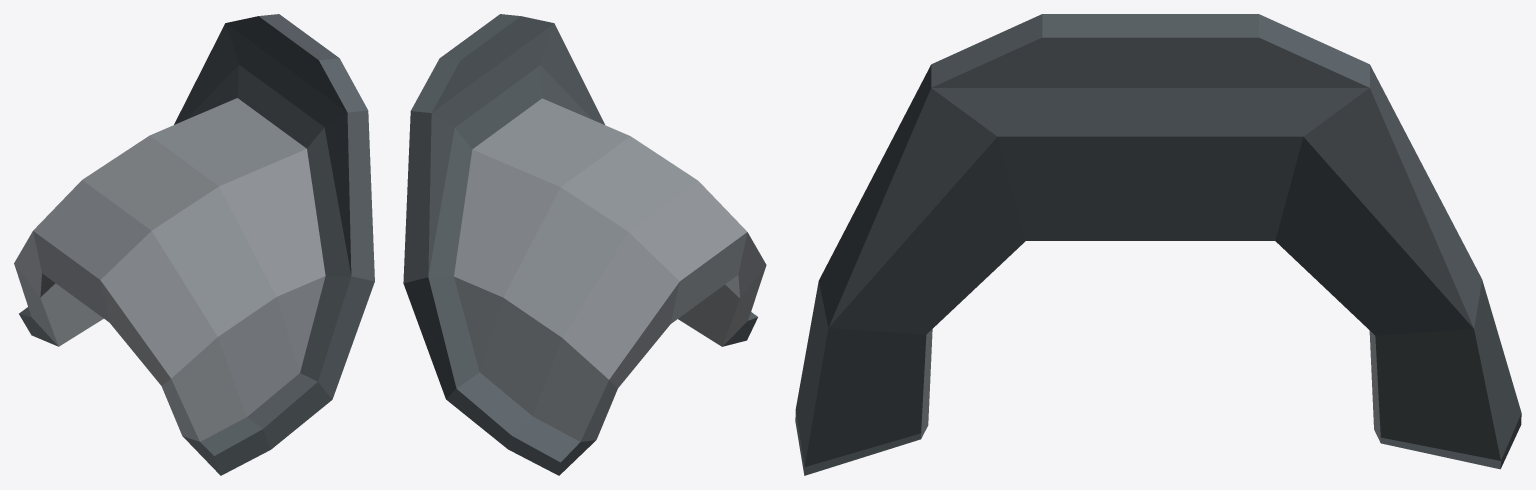
Rendered from Chr_ShoulderAttachRight_12_Static.fbx.
The picture shows the model from 3 angles, left to right: view 1: azimuth 30°, elevation 25°; view 2: azimuth 150°, elevation 25°; view 3: azimuth 270°, elevation 25°; orthographic projection. The views are drawn at different scales.
Visible parts, largest first — view 1: Chr_ShoulderAttachRight_12_Static; view 2: Chr_ShoulderAttachRight_12_Static; view 3: Chr_ShoulderAttachRight_12_Static.
Boxes of the visible parts, x1,y1,x2,y2 form: Chr_ShoulderAttachRight_12_Static: [14, 14, 374, 475]; Chr_ShoulderAttachRight_12_Static: [403, 14, 766, 475]; Chr_ShoulderAttachRight_12_Static: [795, 14, 1521, 475].
Bounding box in the file's own units: 0.2025 × 0.2616 × 0.2909.
